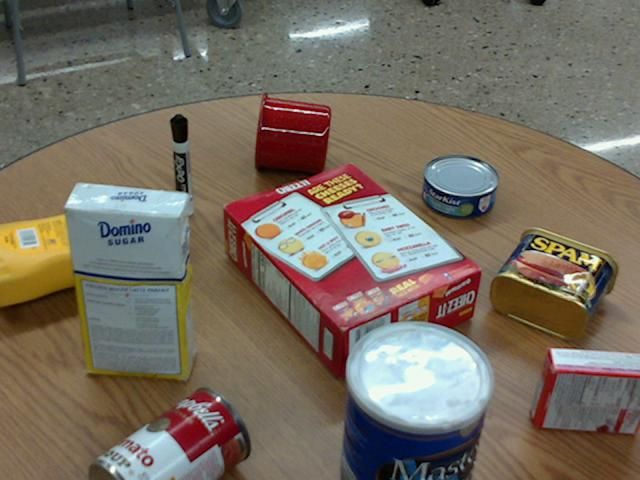cracker_box: (221, 163, 479, 373)
gelatin_box: (532, 346, 639, 432)
large_marker: (170, 114, 192, 215)
master_chef_can: (339, 321, 491, 479)
mug: (255, 92, 330, 173)
mustard_bottle: (0, 206, 181, 306)
potted_meat_can: (490, 226, 617, 340)
sugar_box: (63, 182, 191, 380)
tomato_soup_can: (91, 386, 250, 479)
tuna_fish_can: (422, 154, 498, 217)
